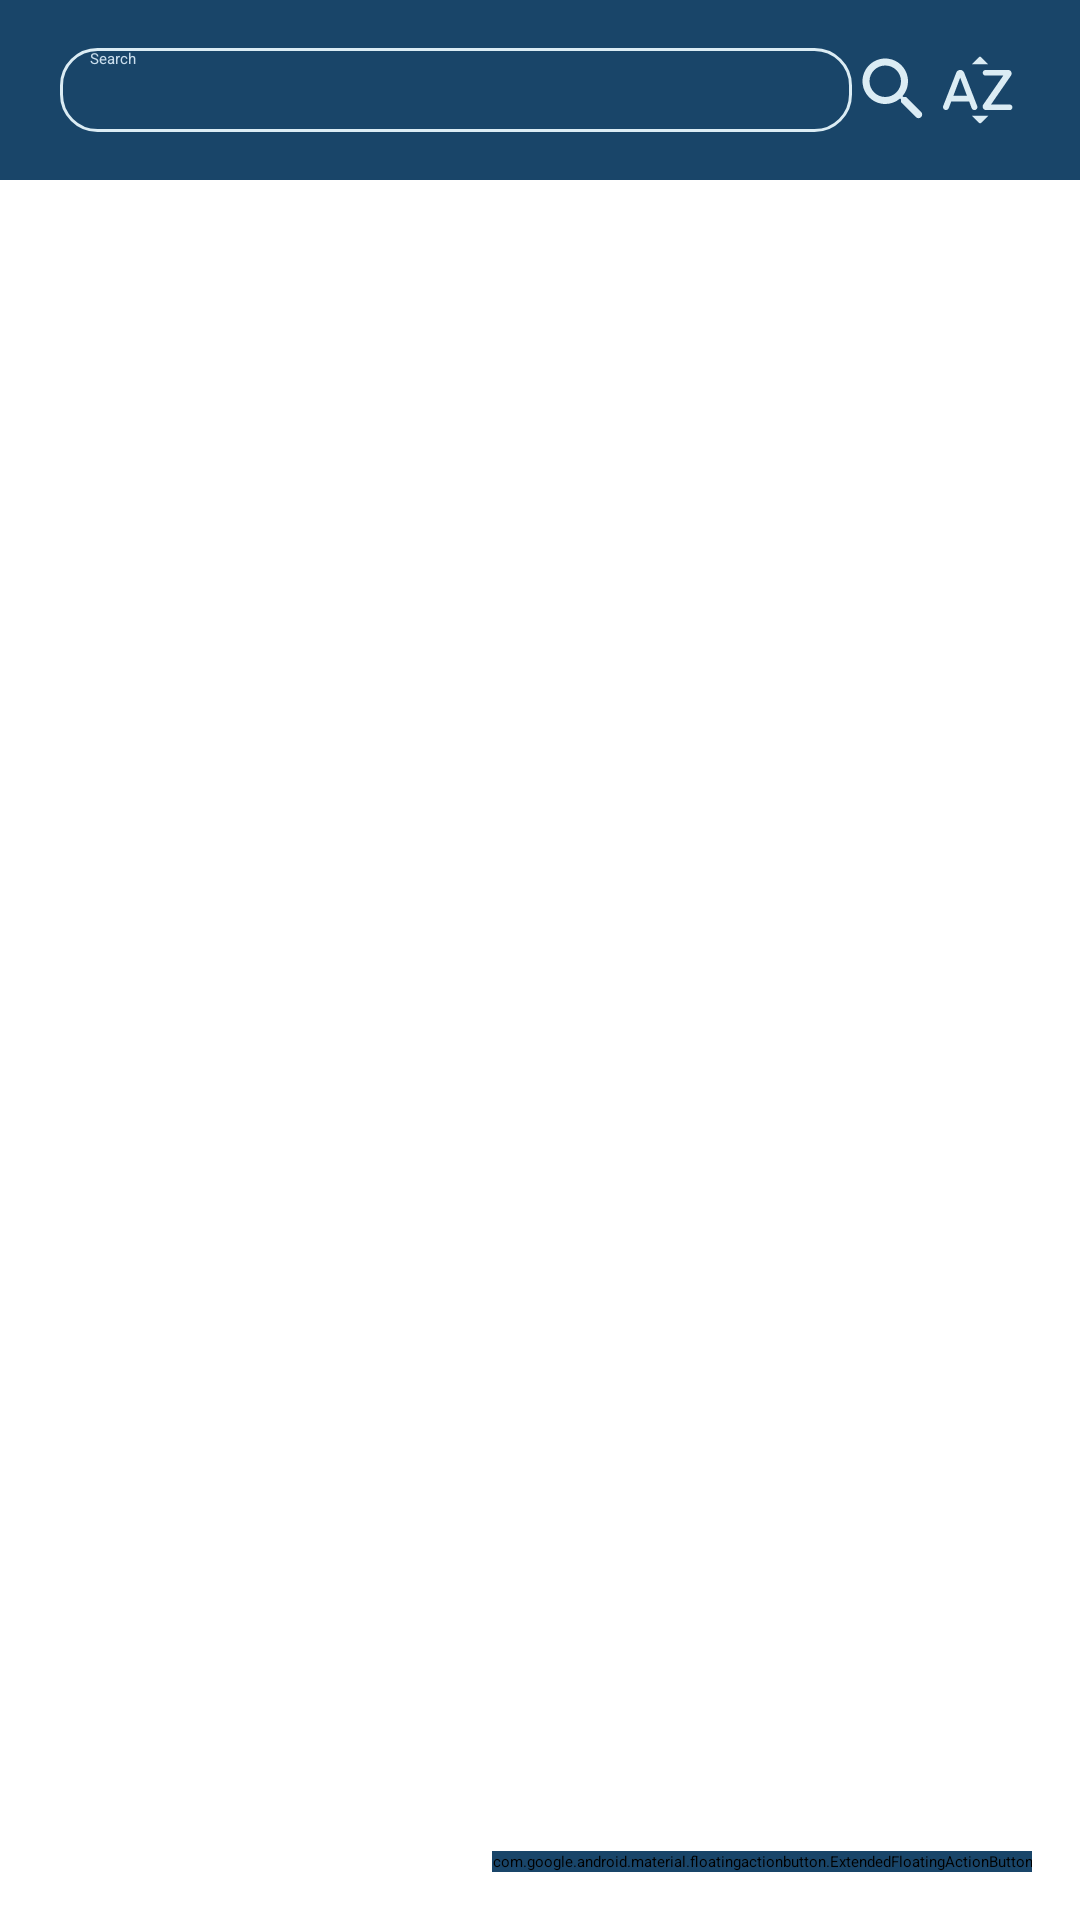

Named icons in this screenshot (1080 x 1920) and their centers, (x=x, y=y):
sort: (x=978, y=90)
